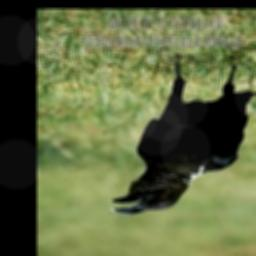Crow: (104, 50, 256, 219)
